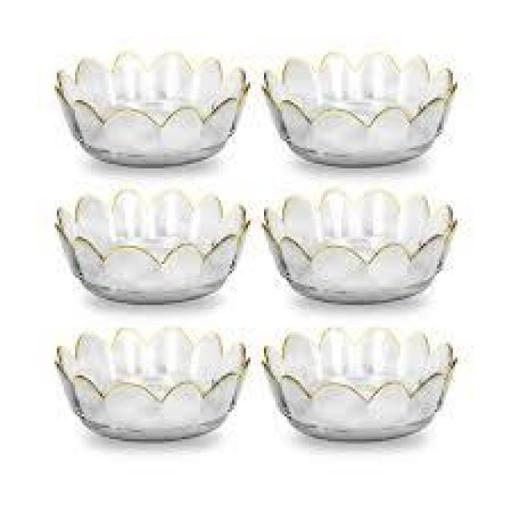glass: (259, 324, 456, 440), (54, 324, 250, 440), (55, 188, 251, 304), (54, 50, 247, 166), (262, 52, 458, 166), (263, 189, 459, 302)
